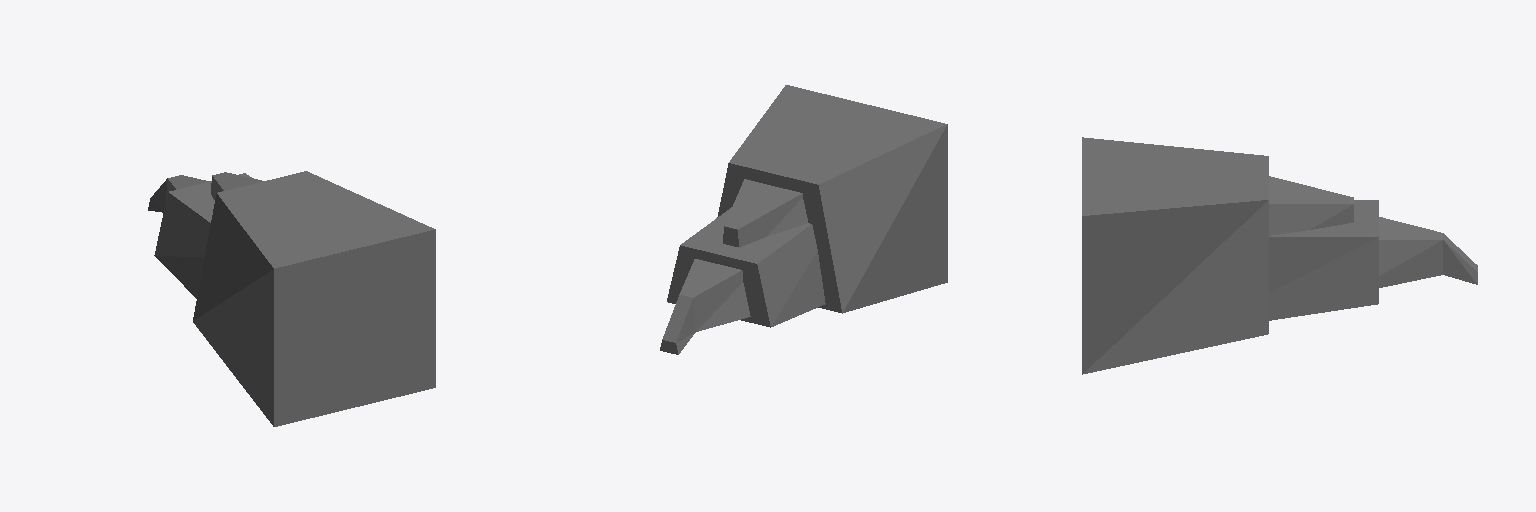
The model's file is head.obj.
3 renders of one model, left to right at view 1: azimuth 30°, elevation 25°; view 2: azimuth 150°, elevation 25°; view 3: azimuth 270°, elevation 25°, orthographic.
Parts seen in each view (by area): view 1: Head; view 2: Head; view 3: Head.
Part boxes in pixels (x1,y1,x2,y2): Head: (148, 171, 435, 426); Head: (660, 85, 947, 354); Head: (1082, 137, 1477, 374).
Bounding box in the file's own units: 0.0181 × 0.017 × 0.0383.